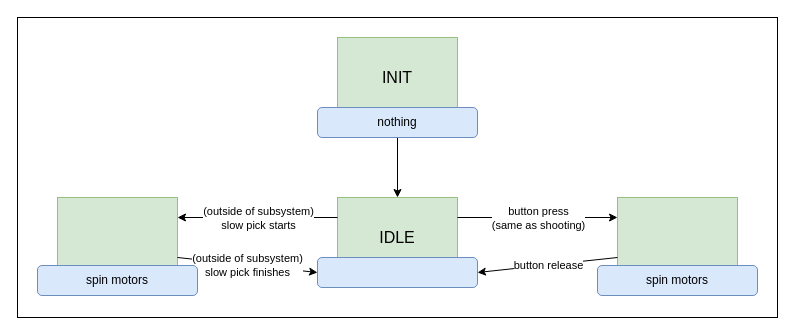
Some shapes in this 795 by 335 pixel diagram are drawn without their labels. The shapes that lost their labels are listed below. From the top down, each one's box as (x1, y1, x2, y2) in pixels, then its label:
(57, 197, 177, 277): SUCKING
(617, 197, 737, 277): SHOOTING
(316, 256, 478, 288): stop motors
